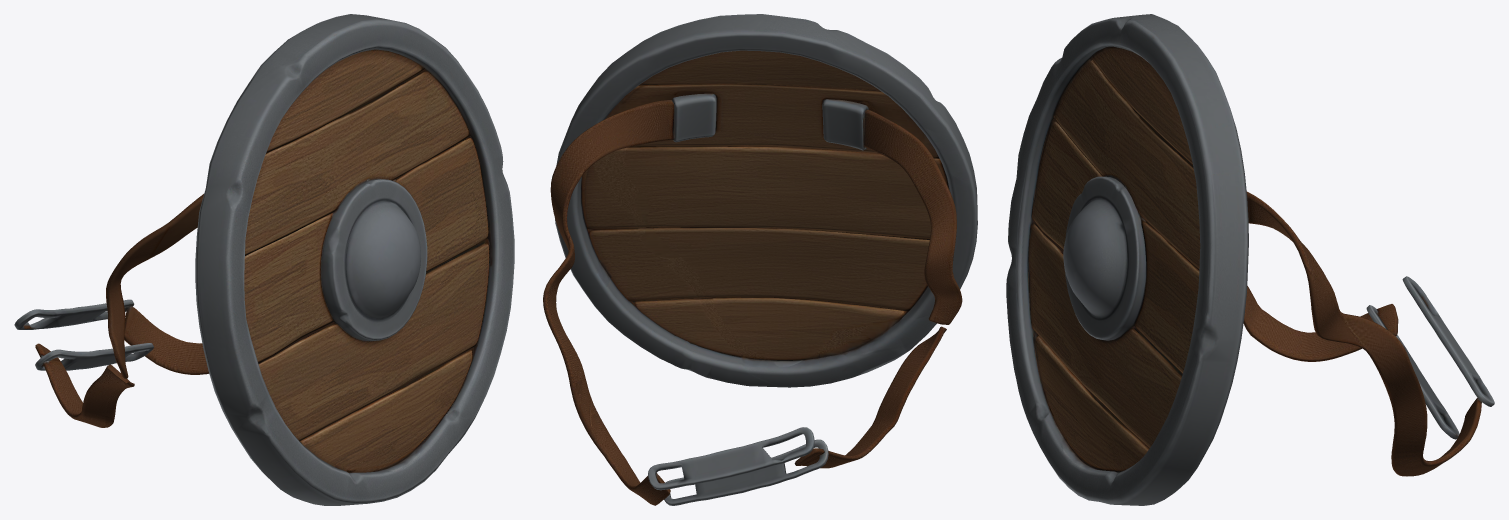
Rendered from weapon-shield-wooden-starter-v001-2k.glb.
3 renders of one model, left to right at view 1: azimuth 30°, elevation 25°; view 2: azimuth 150°, elevation 25°; view 3: azimuth 270°, elevation 25°, orthographic. The views are drawn at different scales.
Visible parts, largest first — view 1: d211325b_9f68_4895_8ff2_73d14cf51dbc; view 2: d211325b_9f68_4895_8ff2_73d14cf51dbc; view 3: d211325b_9f68_4895_8ff2_73d14cf51dbc.
Boxes of the visible parts, left/top/right/bottom form: d211325b_9f68_4895_8ff2_73d14cf51dbc: left=14, top=14, right=514, bottom=505; d211325b_9f68_4895_8ff2_73d14cf51dbc: left=543, top=14, right=977, bottom=505; d211325b_9f68_4895_8ff2_73d14cf51dbc: left=1006, top=14, right=1494, bottom=505.
Size of the model in its own units: 0.9995 by 0.9966 by 0.9995.
Materials: 1 (1 with a texture image).
